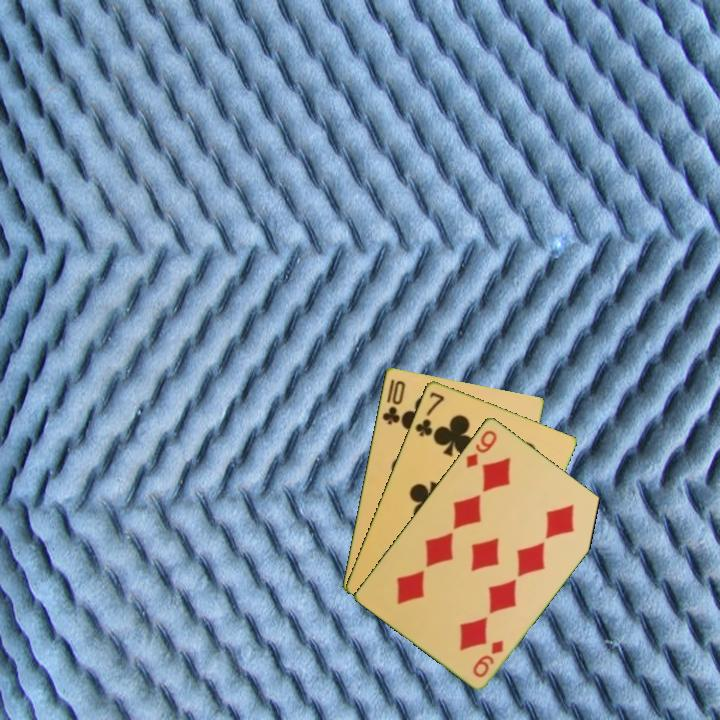10c: (379, 377, 408, 427)
7c: (411, 388, 447, 439)
9d: (462, 426, 500, 471), (469, 636, 506, 680)
